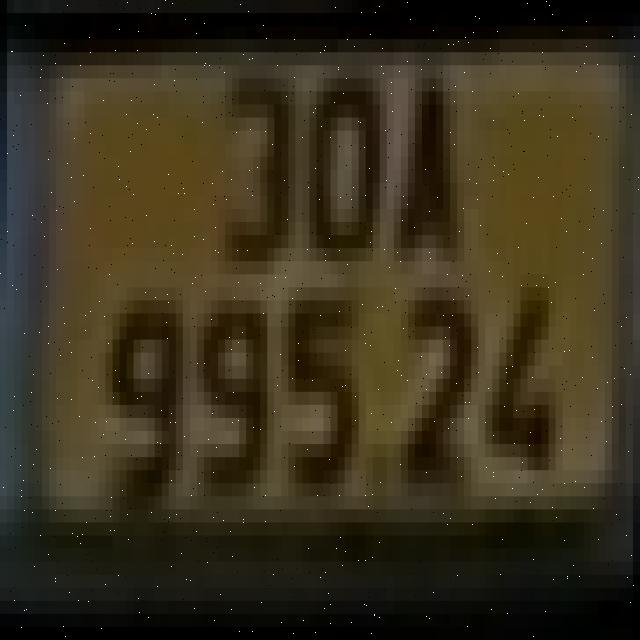0: (306, 66, 383, 262)
2: (401, 281, 478, 490)
4: (489, 281, 559, 490)
5: (285, 281, 362, 490)
9: (105, 288, 183, 510), (197, 294, 267, 490)
A: (390, 72, 468, 268)
